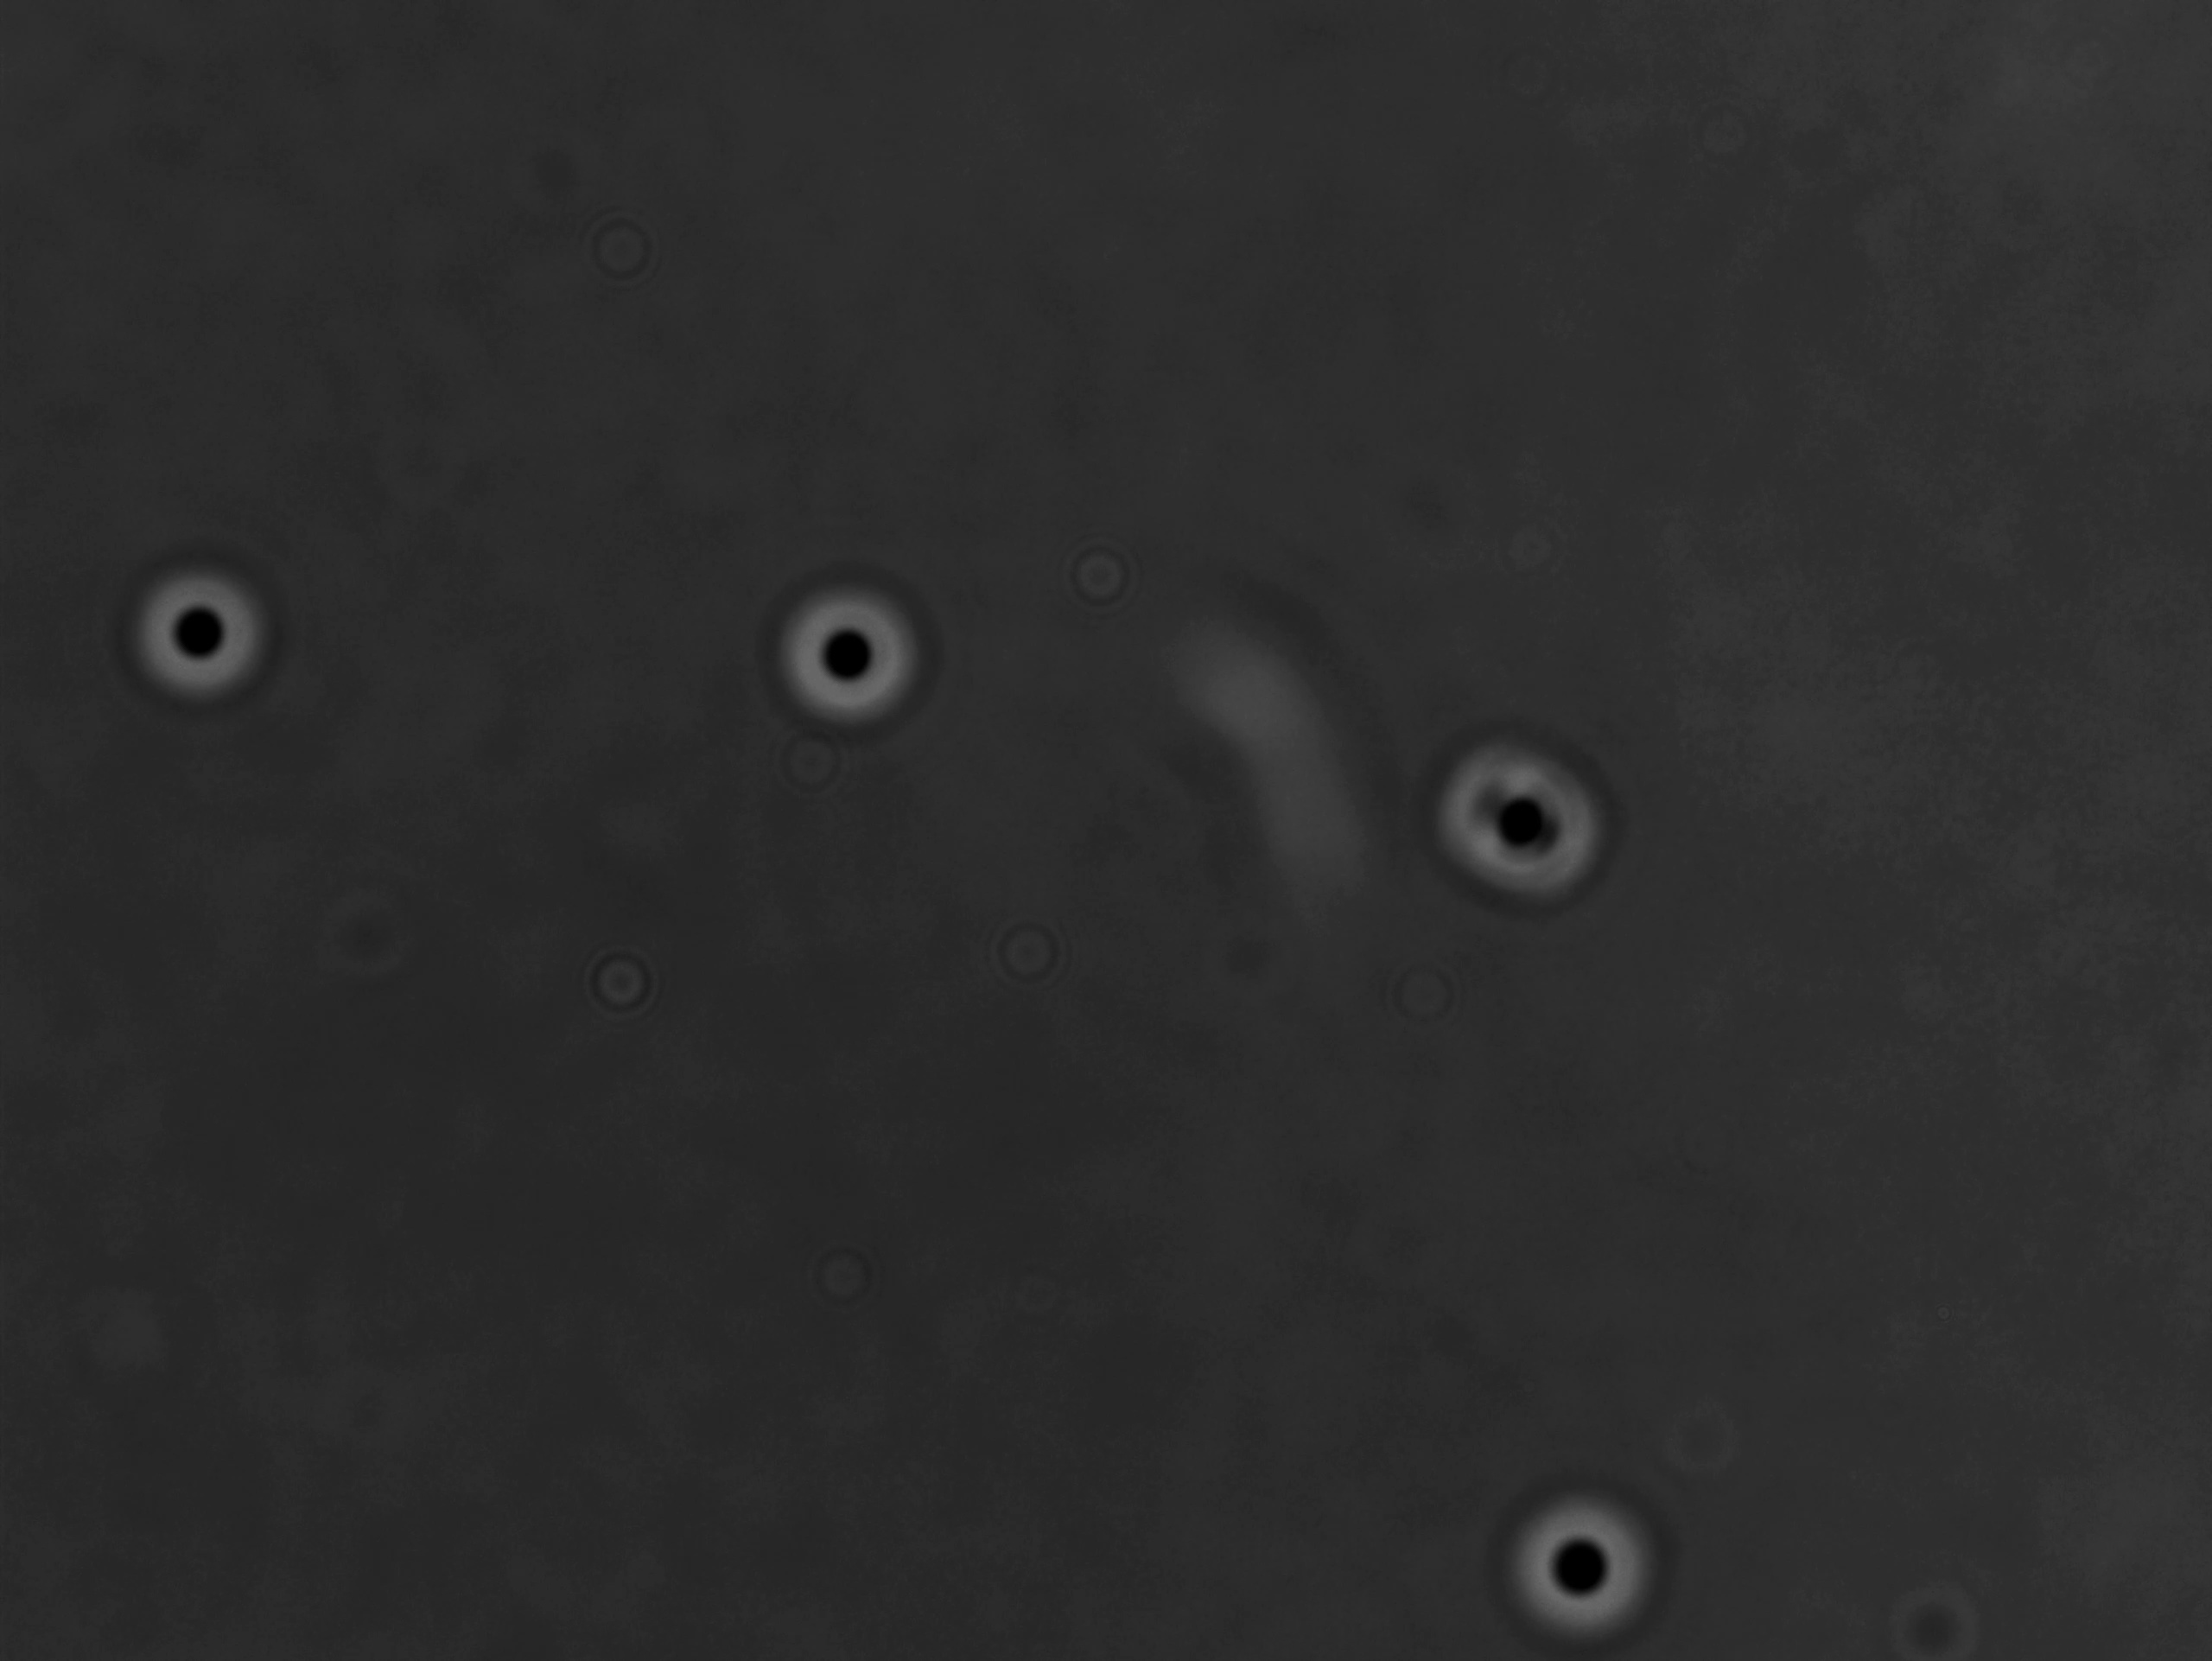depth:-40: (1425, 731, 1617, 909), (1493, 1480, 1664, 1654), (775, 562, 940, 733), (126, 551, 281, 710)
